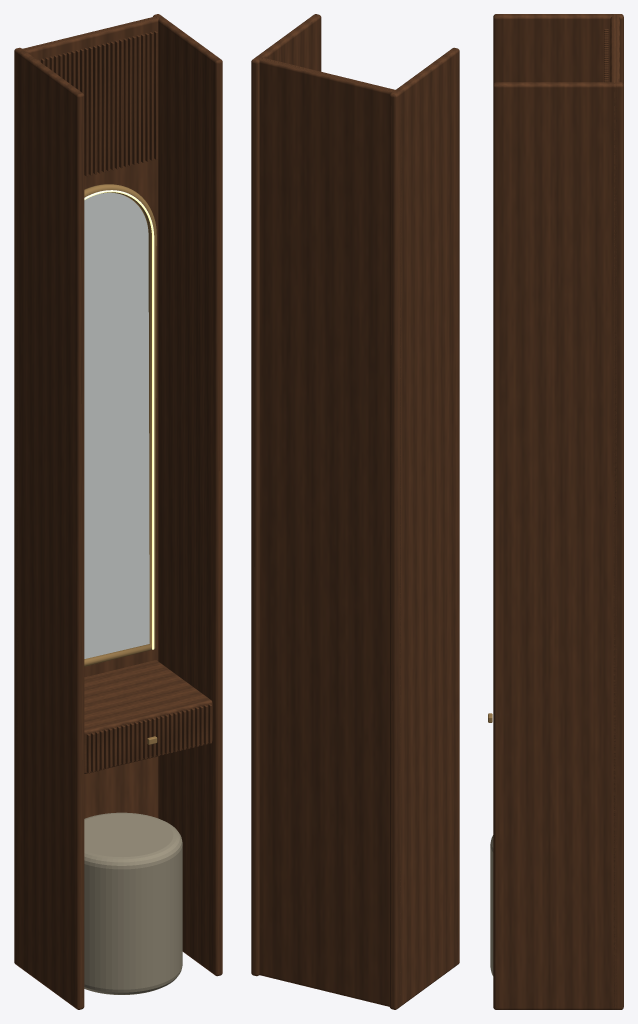
Rendered from reference-arched-dressing.glb.
3 views of the same model, side by side, from view 1: azimuth 30°, elevation 25°; view 2: azimuth 150°, elevation 25°; view 3: azimuth 270°, elevation 25° (orthographic).
Parts seen in each view (by area): view 1: Slim walnut side, Slim walnut side.001, Arched reflective mirror, Tucked upholstered stool, Walnut dressing backing, Floating dressing drawer, Bronze arch frame, Warm arch illumination, Fluted walnut wall.018, Fluted walnut wall.013, Fluted walnut wall.016, Fluted walnut wall.019 (+13 smaller); view 2: Walnut dressing backing, Slim walnut side, Slim walnut side.001; view 3: Slim walnut side.001, Slim walnut side, Walnut dressing backing, Tucked upholstered stool.
Boxes of the visible parts, x1,y1,x2,y2 form: Slim walnut side: [14, 47, 84, 1009]; Slim walnut side.001: [153, 14, 222, 976]; Arched reflective mirror: [84, 192, 149, 658]; Tucked upholstered stool: [84, 812, 182, 994]; Walnut dressing backing: [16, 15, 161, 964]; Floating dressing drawer: [84, 660, 212, 773]; Bronze arch frame: [84, 184, 156, 666]; Warm arch illumination: [84, 190, 154, 649]; Fluted walnut wall.018: [110, 41, 114, 170]; Fluted walnut wall.013: [88, 47, 92, 175]; Fluted walnut wall.016: [101, 43, 105, 172]; Fluted walnut wall.019: [114, 40, 118, 169]; Walnut dressing backing: [255, 57, 401, 1007]; Slim walnut side: [389, 47, 459, 1009]; Slim walnut side.001: [251, 14, 321, 976]; Slim walnut side.001: [493, 82, 623, 1009]; Slim walnut side: [493, 14, 623, 84]; Walnut dressing backing: [610, 14, 619, 1009]; Tucked upholstered stool: [490, 835, 493, 975].
Size of the model in its own units: 0.4572 by 2.74 by 0.364.
Materials: 5 (1 with a texture image).
